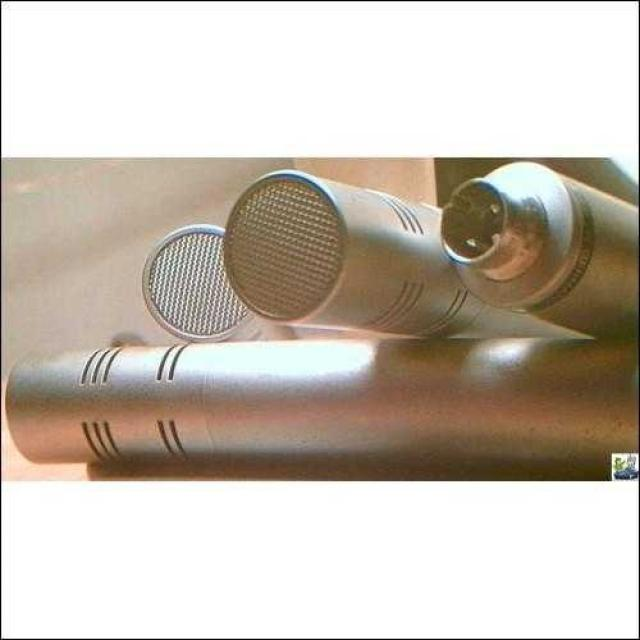microphone: (208, 154, 444, 319), (9, 336, 261, 469), (145, 228, 266, 344)
